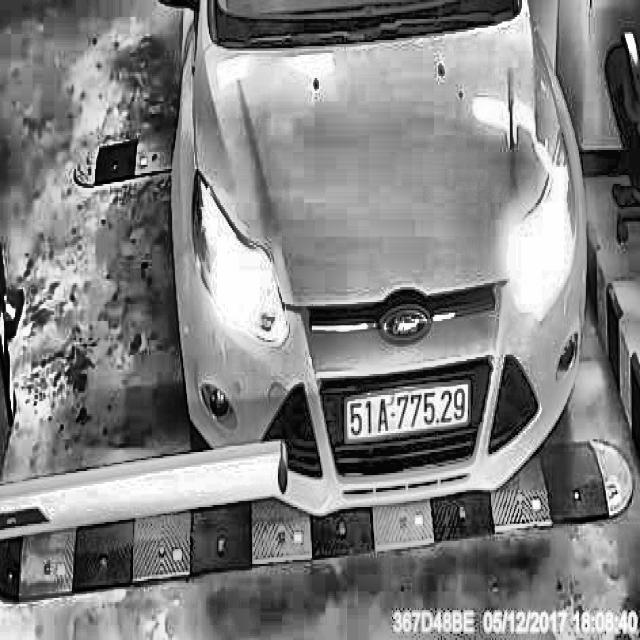plate: (344, 377, 474, 447)
